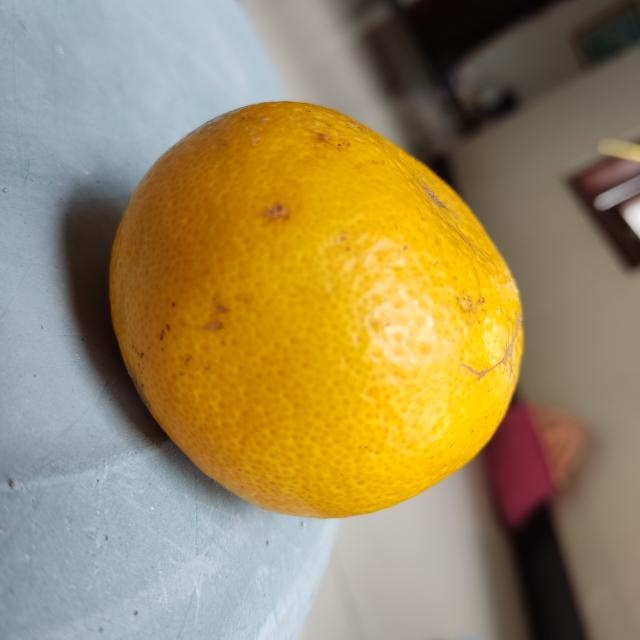agrume: (107, 100, 522, 523)
